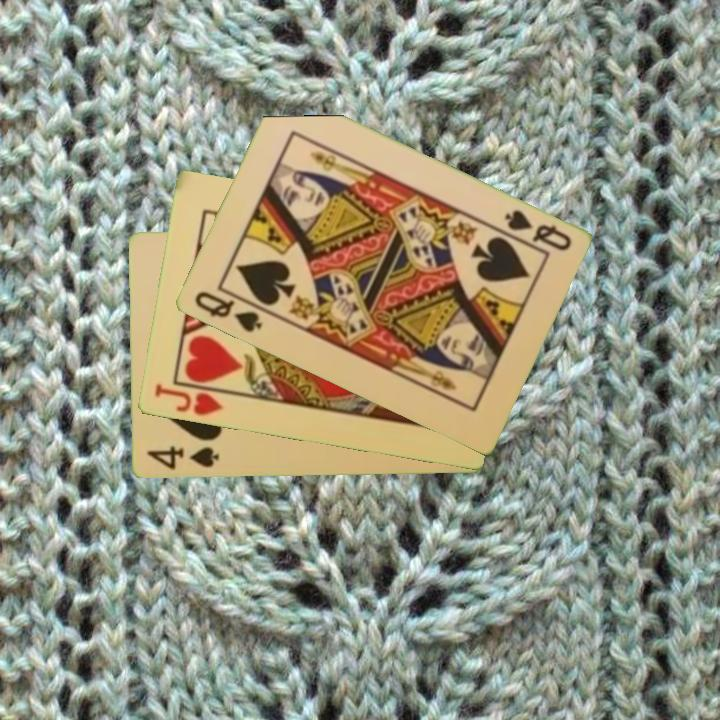4s: (143, 443, 221, 473)
Jh: (150, 380, 226, 419)
Qs: (190, 288, 265, 336), (500, 206, 574, 254)
